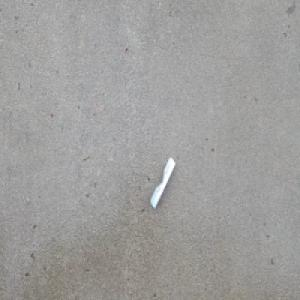ClampPart: (149, 156, 175, 210)
